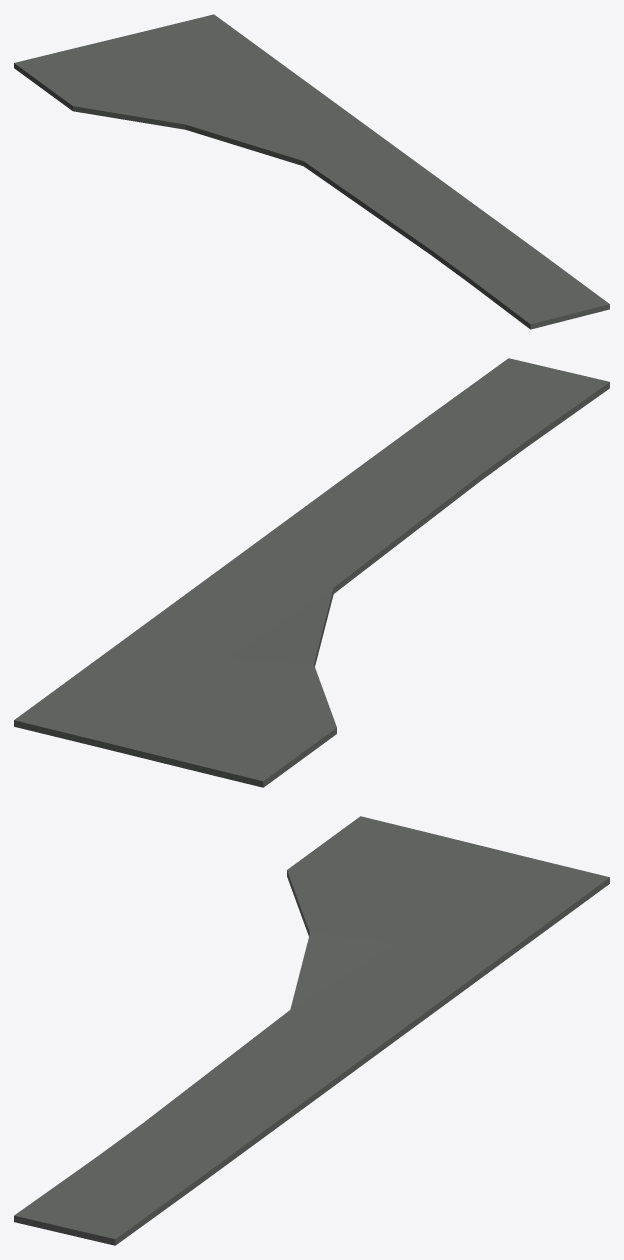
Rendered from ground first.FBX.
3 renders of one model, top to bottom at view 1: azimuth 30°, elevation 25°; view 2: azimuth 150°, elevation 25°; view 3: azimuth 330°, elevation 25°, orthographic. The views are drawn at different scales.
Visible parts, largest first — view 1: ground2; view 2: ground2; view 3: ground2.
Boxes of the visible parts, x1,y1,x2,y2 form: ground2: [14, 14, 609, 329]; ground2: [14, 358, 609, 787]; ground2: [14, 816, 609, 1245].
Bounding box in the file's own units: 2721 × 67.44 × 9338.
